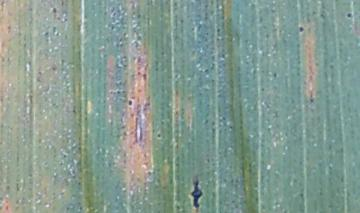tarspot: (189, 174, 203, 210), (297, 25, 306, 34), (126, 98, 133, 107), (346, 11, 352, 19), (51, 7, 57, 15), (271, 71, 277, 79), (156, 132, 162, 139), (309, 98, 315, 104)
